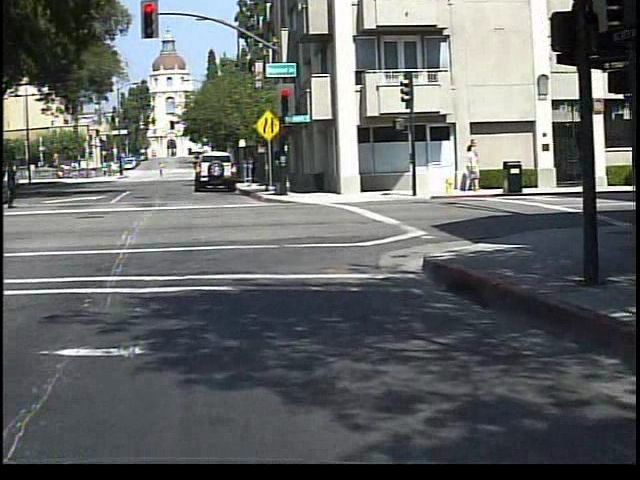person: (7, 167, 36, 223), (5, 161, 26, 211), (161, 162, 170, 179)
